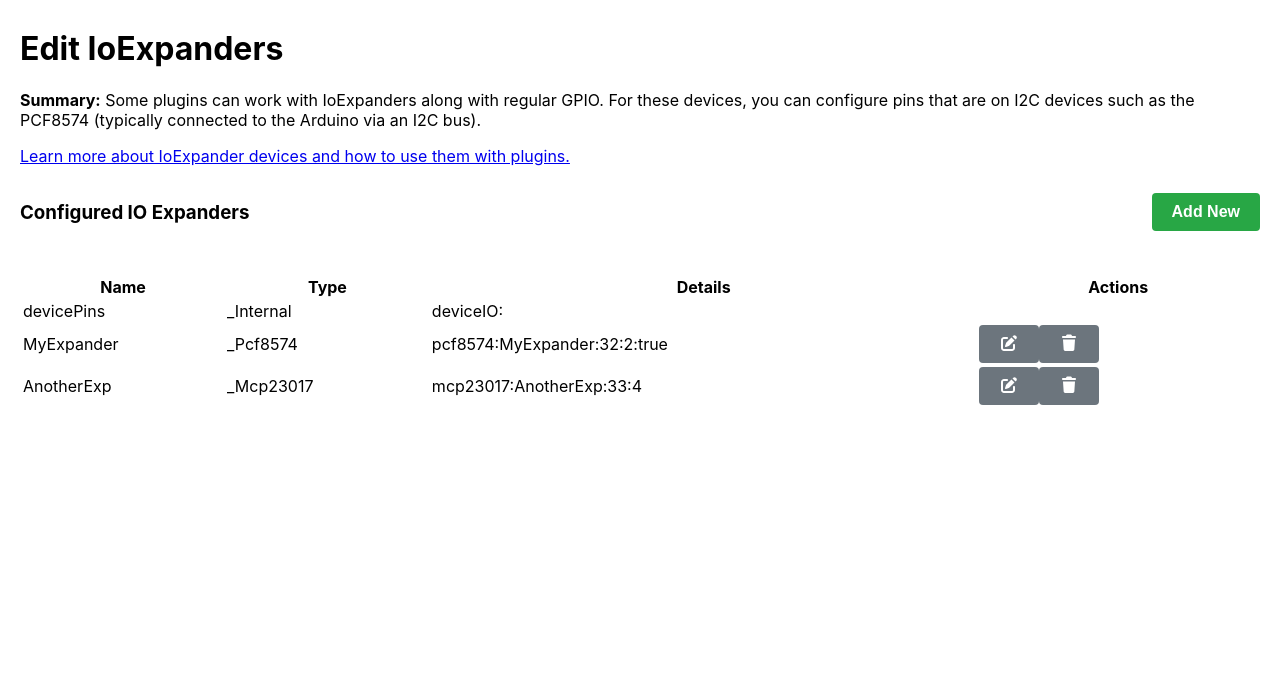
Test: IoExpanderComponent › disallows reserved name devicePins
The width and height of the screenshot is (1280, 699).
Click the button "Add New" at (1206, 212), box [1152,193,1260,231]
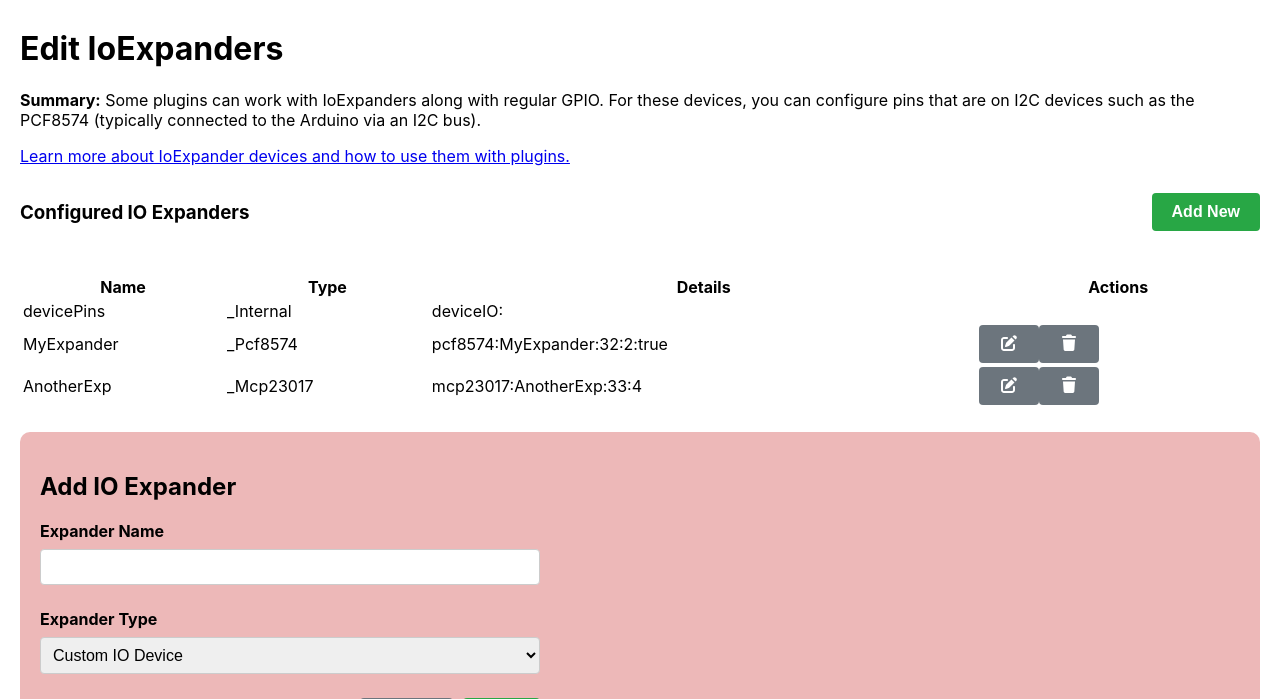
Type "devicePins" into the field labelled "Expander Name" at (290, 567), box [40,549,540,585]
(page scrolled)
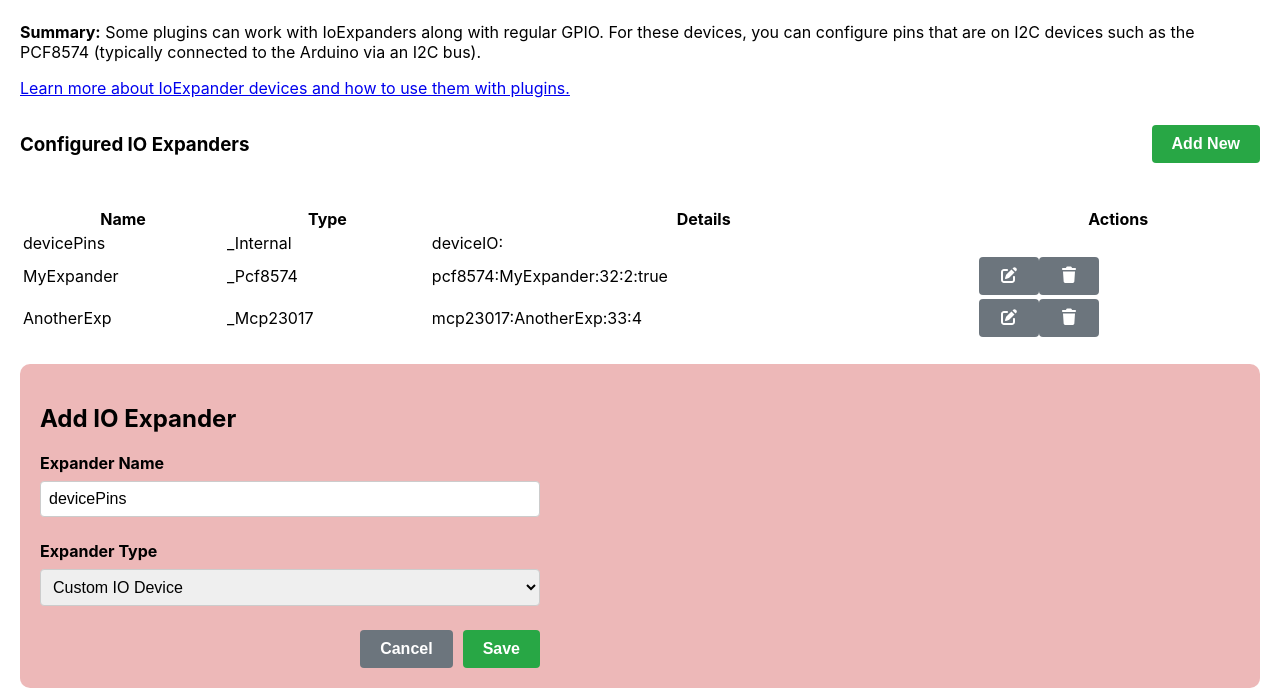
Click the button "Save" at (501, 649), box [463,630,540,668]
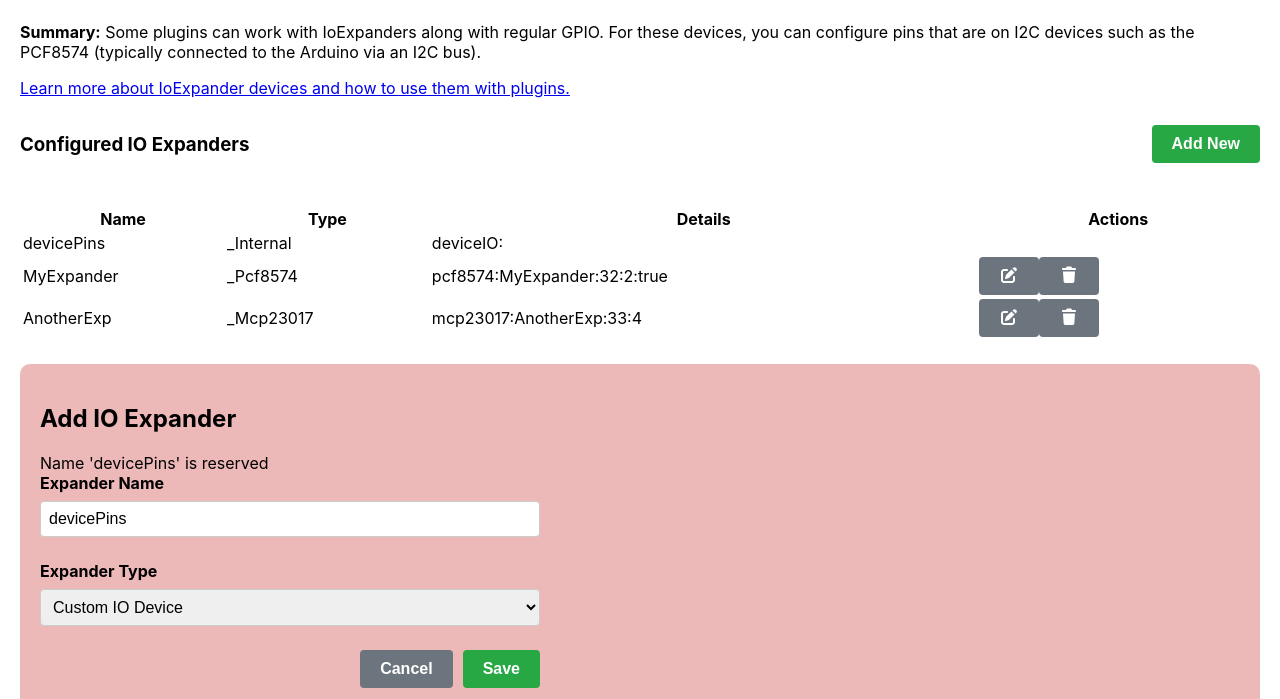
Now the text "Name 'devicePins' is reserved" is shown, box [40,453,269,473]
